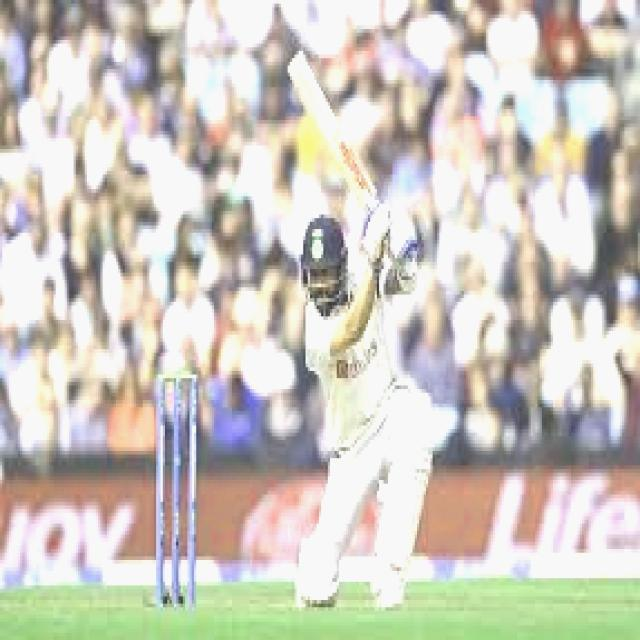bat: (270, 41, 381, 210)
toe: (282, 46, 312, 71)
